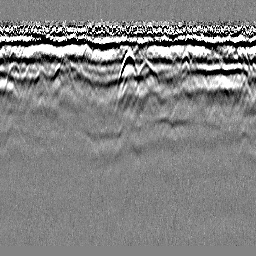cavity: (116, 49, 139, 90)
